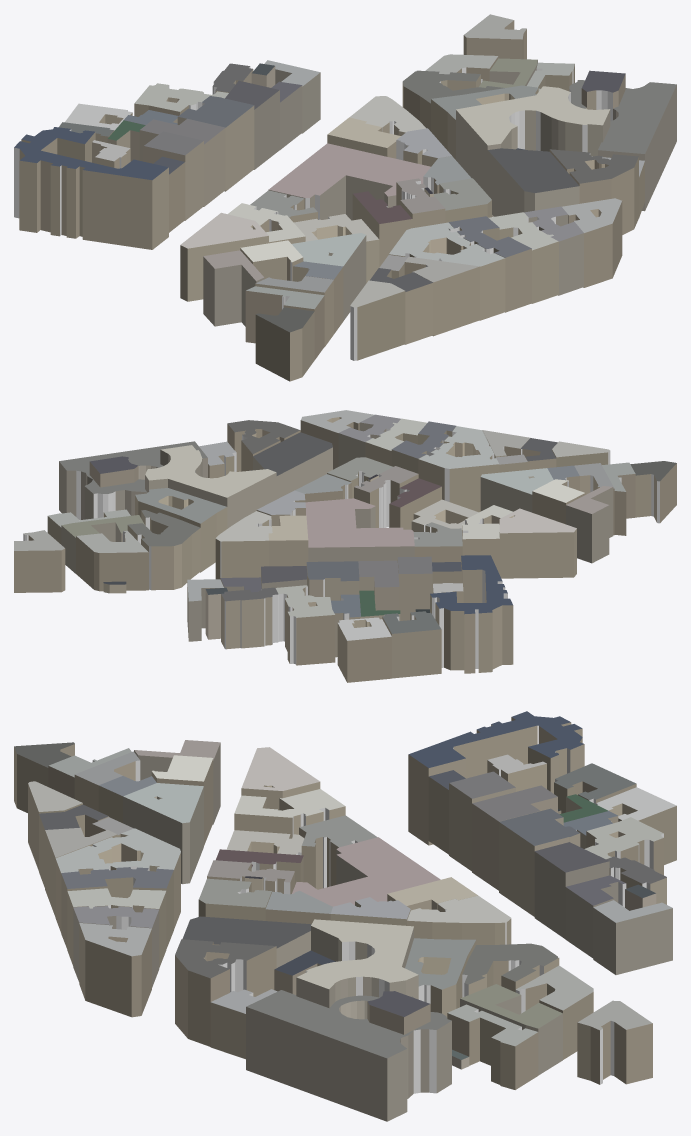
3 views of the same model, one above another, from view 1: azimuth 30°, elevation 25°; view 2: azimuth 150°, elevation 25°; view 3: azimuth 270°, elevation 25° (orthographic). The views are drawn at different scales.
Parts seen in each view (by area): view 1: tuile; view 2: tuile; view 3: tuile.
Part boxes in pixels (x1=…): tuile: x1=14, y1=14, x2=676, y2=381; tuile: x1=14, y1=410, x2=676, y2=682; tuile: x1=14, y1=711, x2=676, y2=1121.
Bounding box in the file's own units: 297 × 52.03 × 258.
